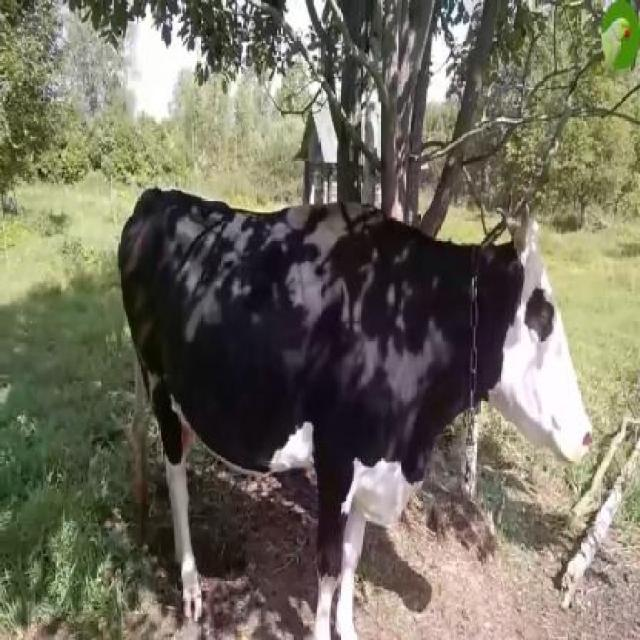Cow: (117, 187, 591, 638)
